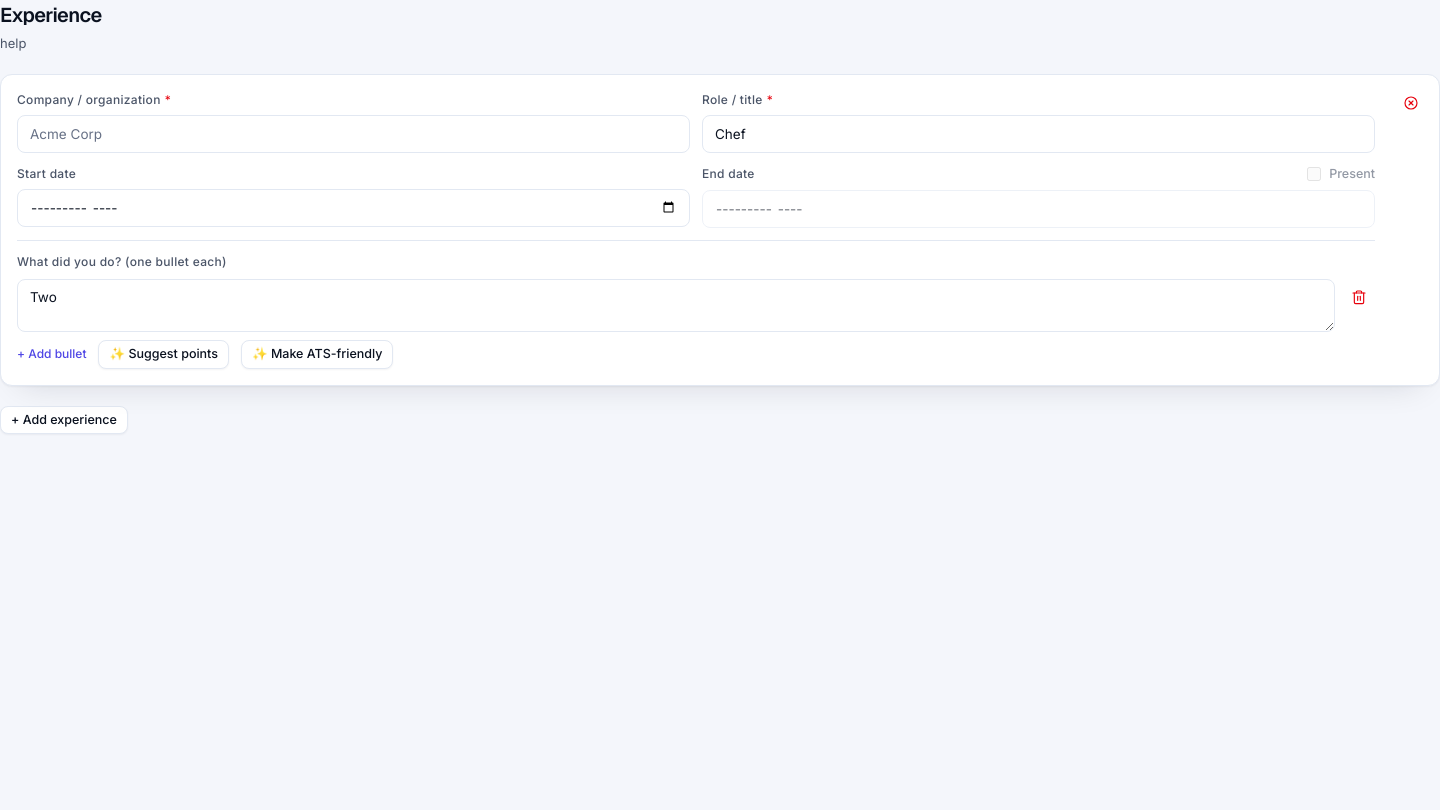
Scenario: ExperienceForm (experience) › adds every remaining point at once and remembers the role's suggestions
Click the button "✨ Suggest points": click(164, 354) [98, 340, 229, 369]
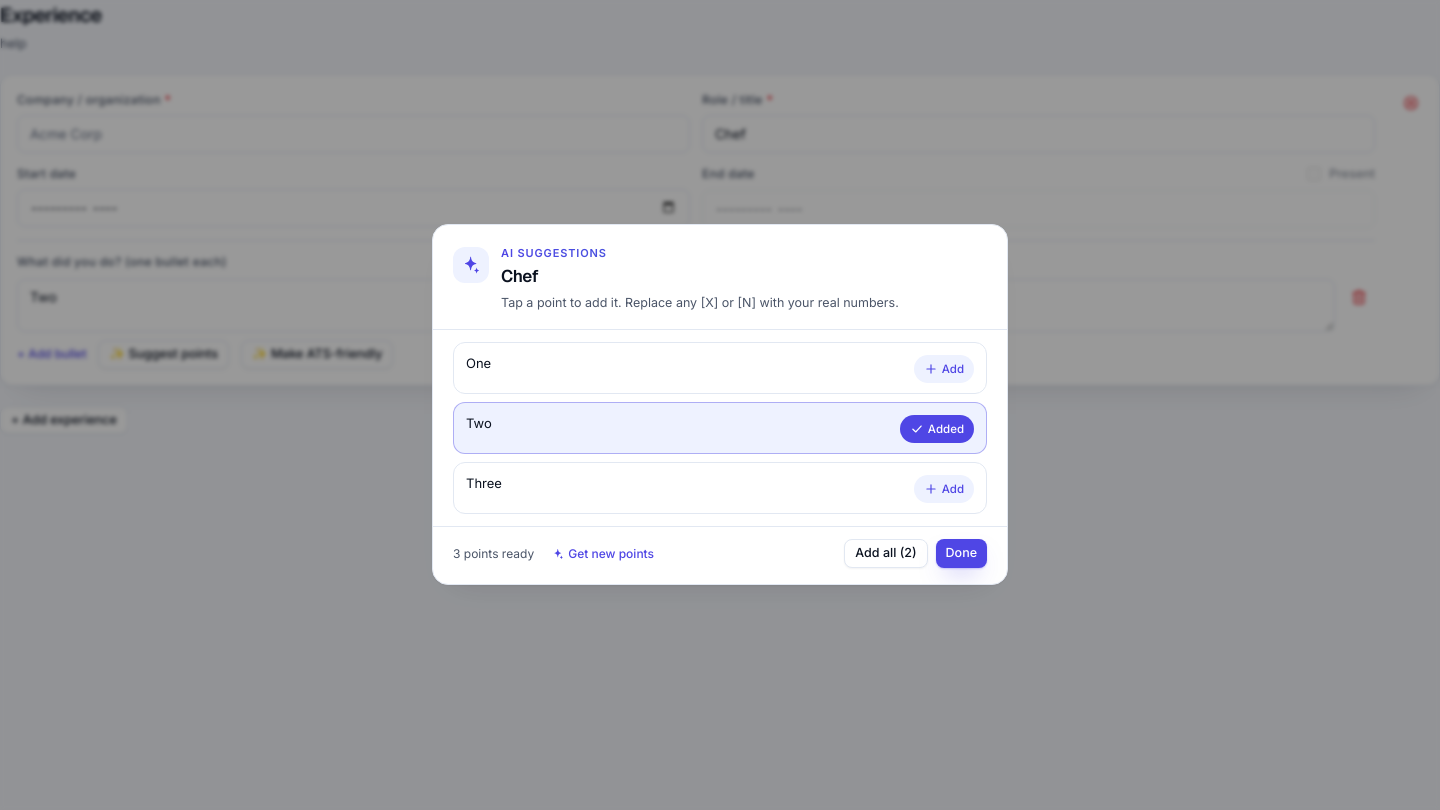
Click the button "Add all (2)": click(886, 554) [844, 540, 928, 569]
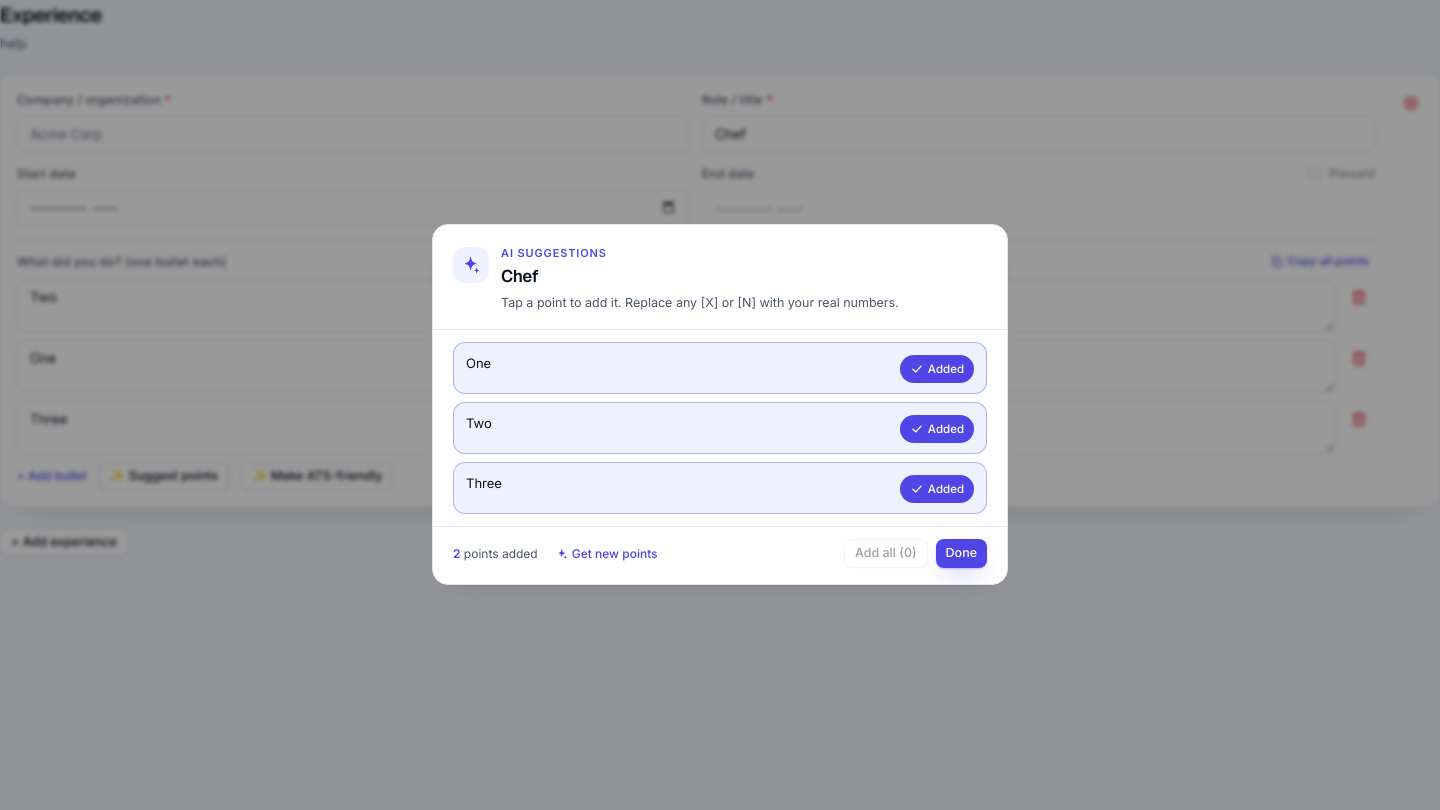
Click the button "Done": click(961, 554) [936, 540, 987, 569]
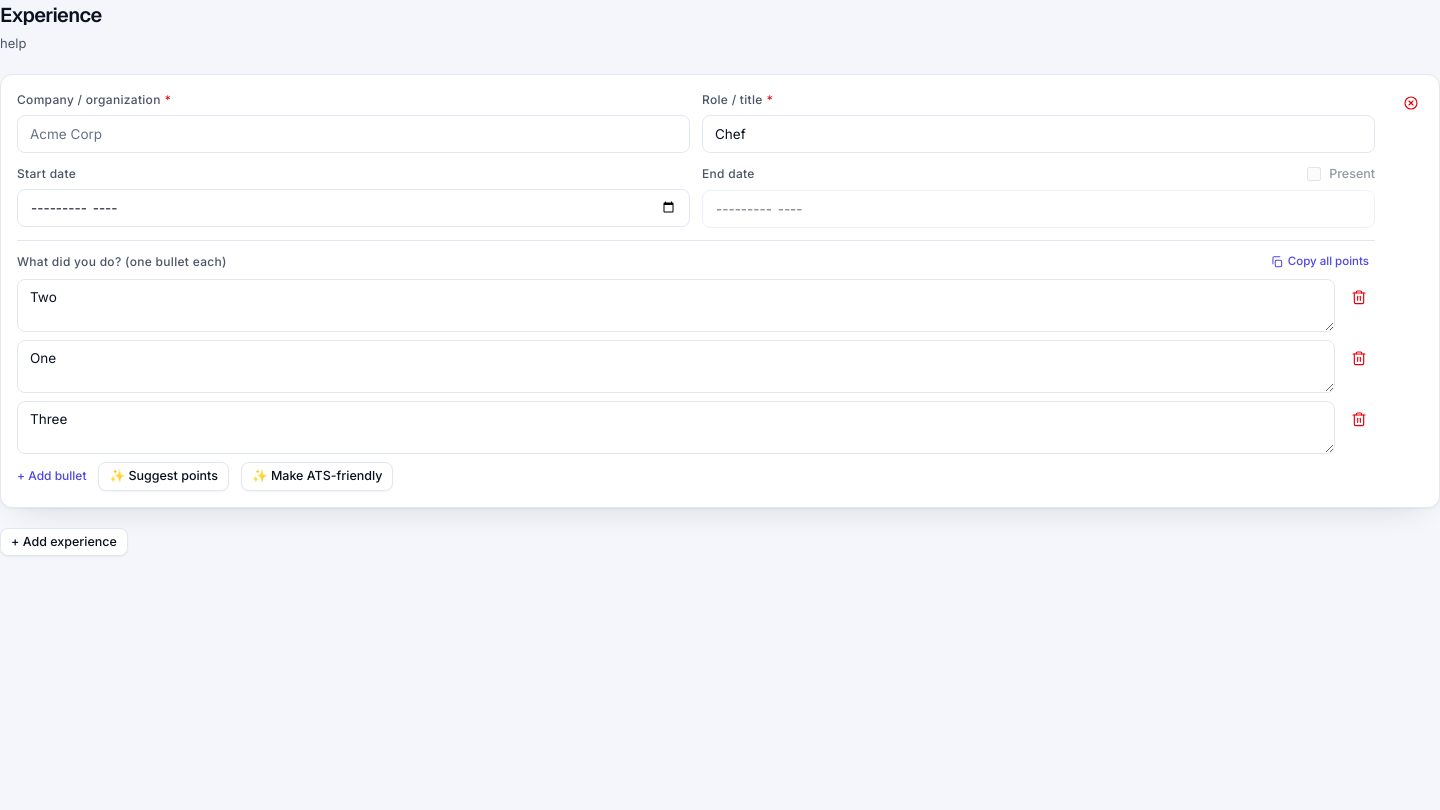
Click the button "✨ Suggest points": click(164, 476) [98, 462, 229, 491]
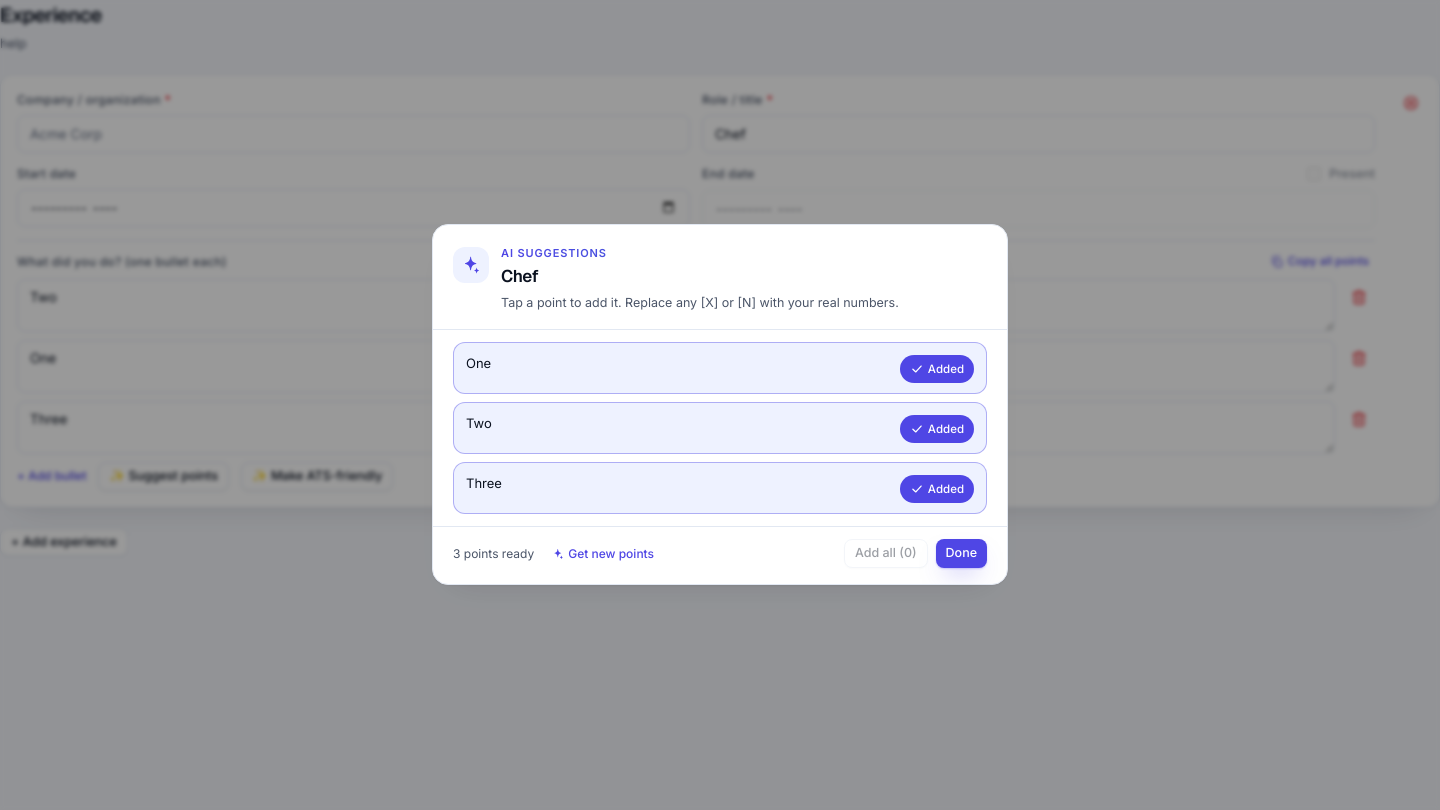
Expected: the dialog is shown
